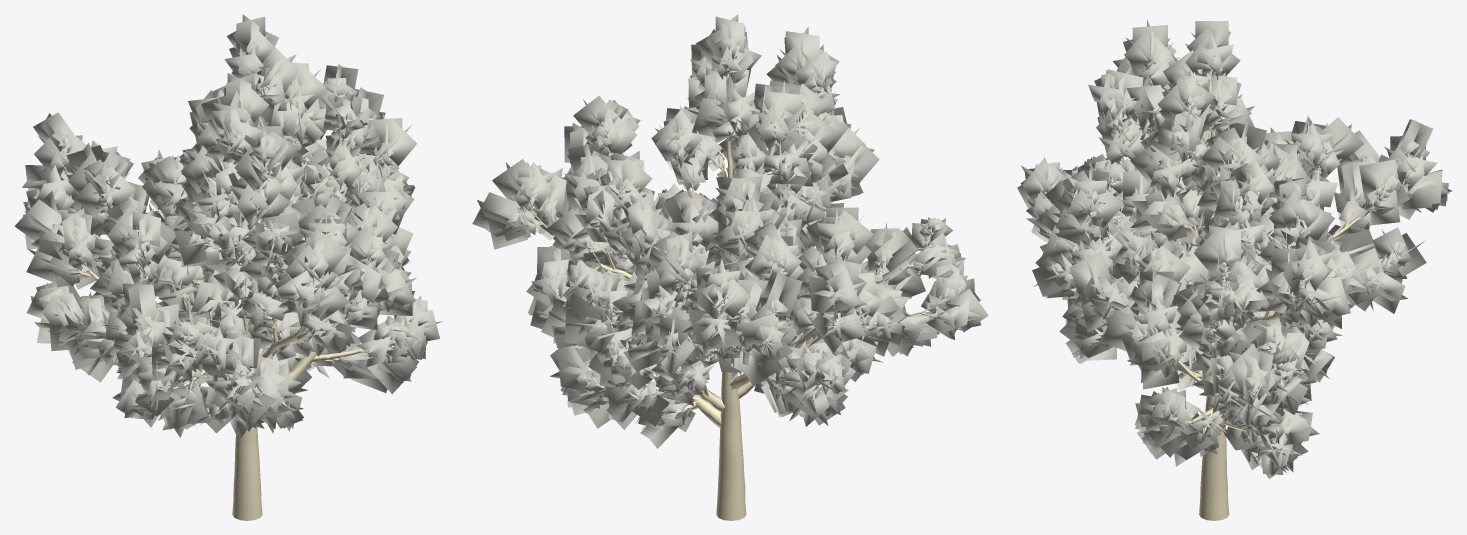
File: oak_large_v0_lod0.glb
3 renders of one model, left to right at view 1: azimuth 30°, elevation 25°; view 2: azimuth 150°, elevation 25°; view 3: azimuth 270°, elevation 25°, orthographic.
Visible parts, largest first — view 1: Leaves, Branches; view 2: Leaves, Branches; view 3: Leaves, Branches.
Boxes of the visible parts, x1,y1,x2,y2 form: Leaves: [14, 14, 442, 438]; Branches: [65, 130, 385, 520]; Leaves: [472, 14, 988, 448]; Branches: [532, 70, 944, 520]; Leaves: [1017, 19, 1452, 478]; Branches: [1045, 69, 1405, 520].
Bounding box in the file's own units: 89.68 × 108 × 86.35.
